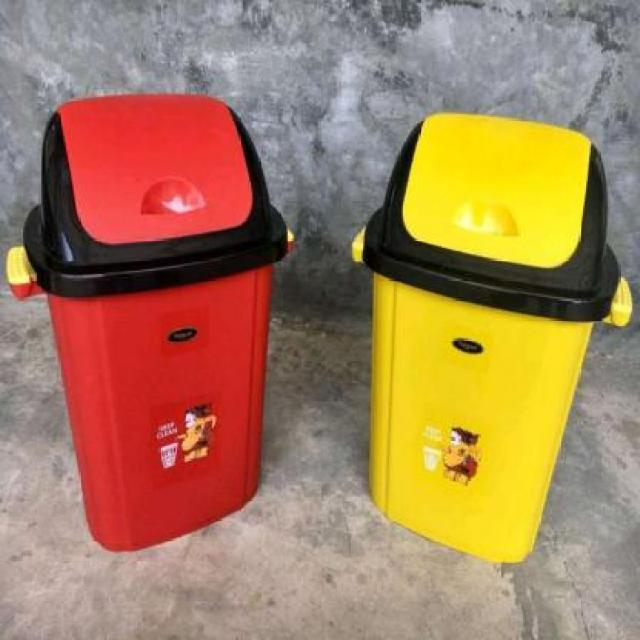garbage container: (2, 87, 311, 563), (347, 104, 640, 593)
